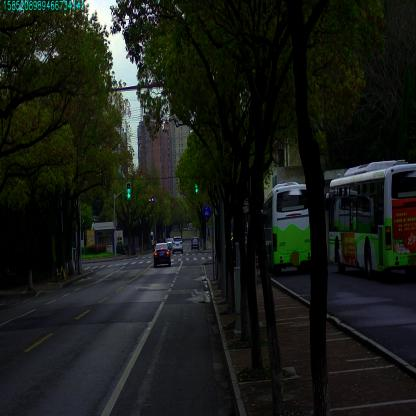traffic-light: (127, 182, 130, 198), (195, 182, 198, 194)
